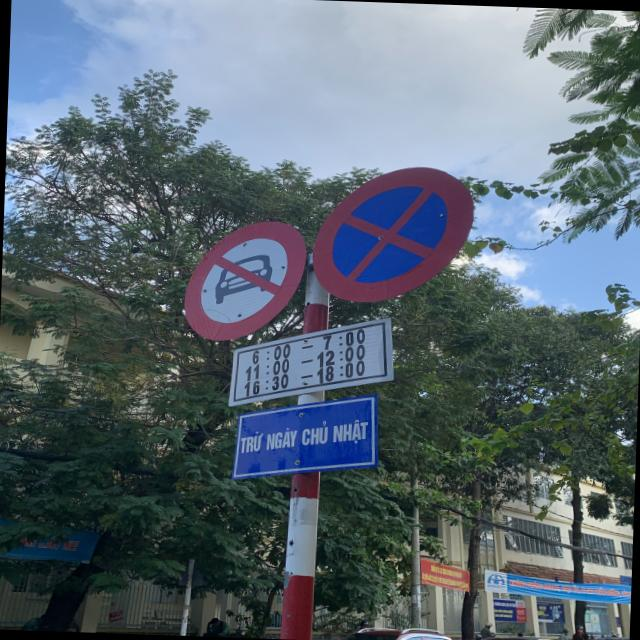Cam_O_To: (306, 162, 475, 304), (185, 218, 309, 344)
